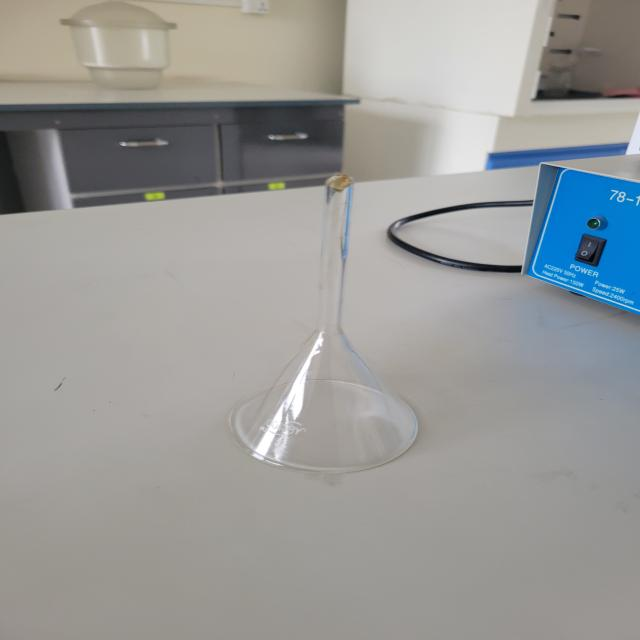Funnel: (193, 144, 462, 492)
